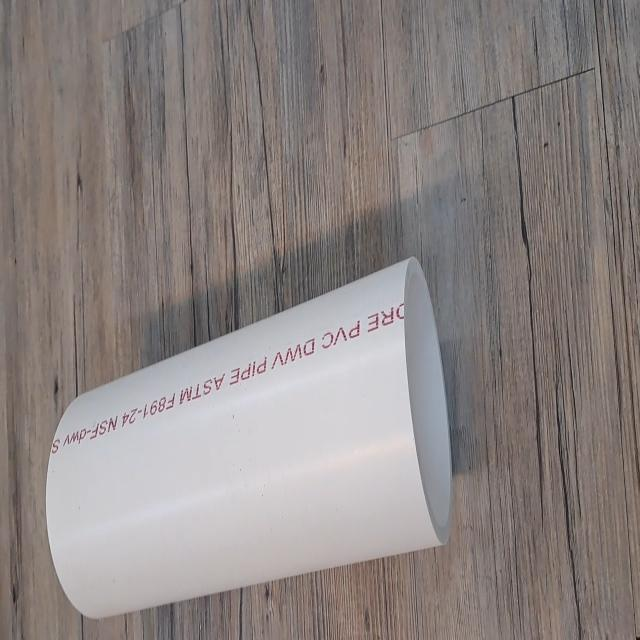CORAL: (44, 245, 458, 624)
